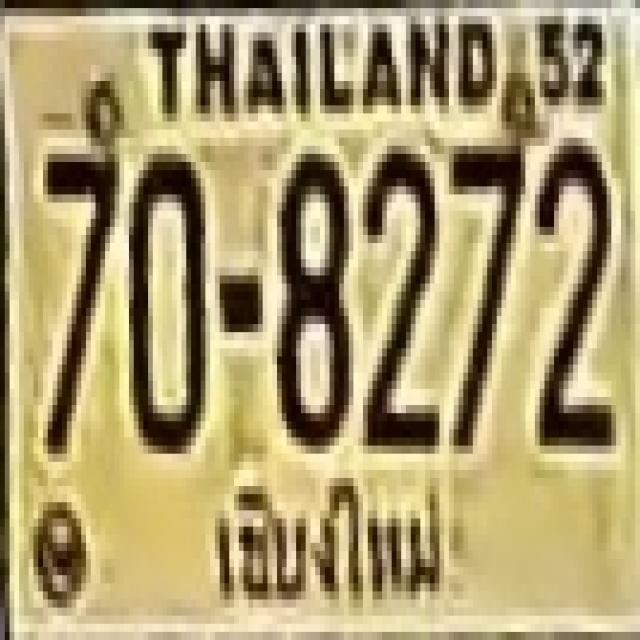0: (124, 146, 201, 445)
2: (532, 134, 609, 442), (361, 142, 437, 441)
7: (449, 137, 521, 446), (43, 146, 115, 445), (43, 150, 115, 368)
8: (272, 146, 344, 437)
CMI: (206, 475, 454, 610)
